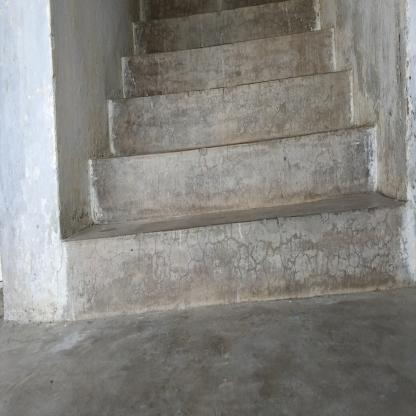stairs: (96, 68, 355, 325)
